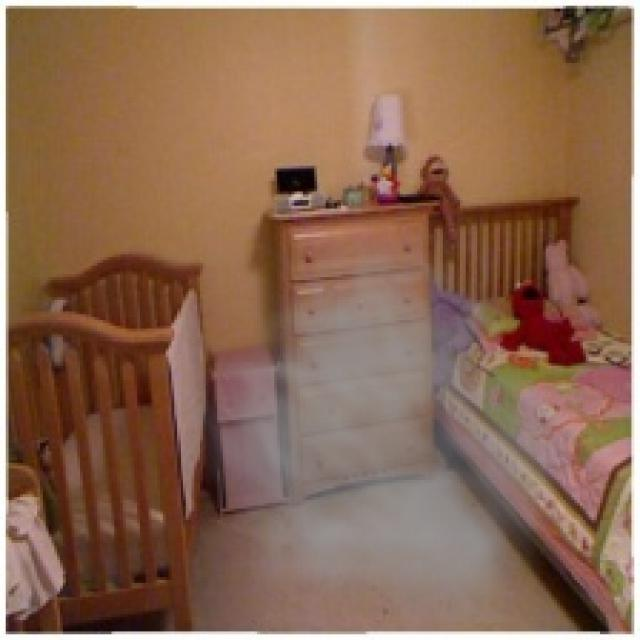smoke: (174, 206, 600, 623)
